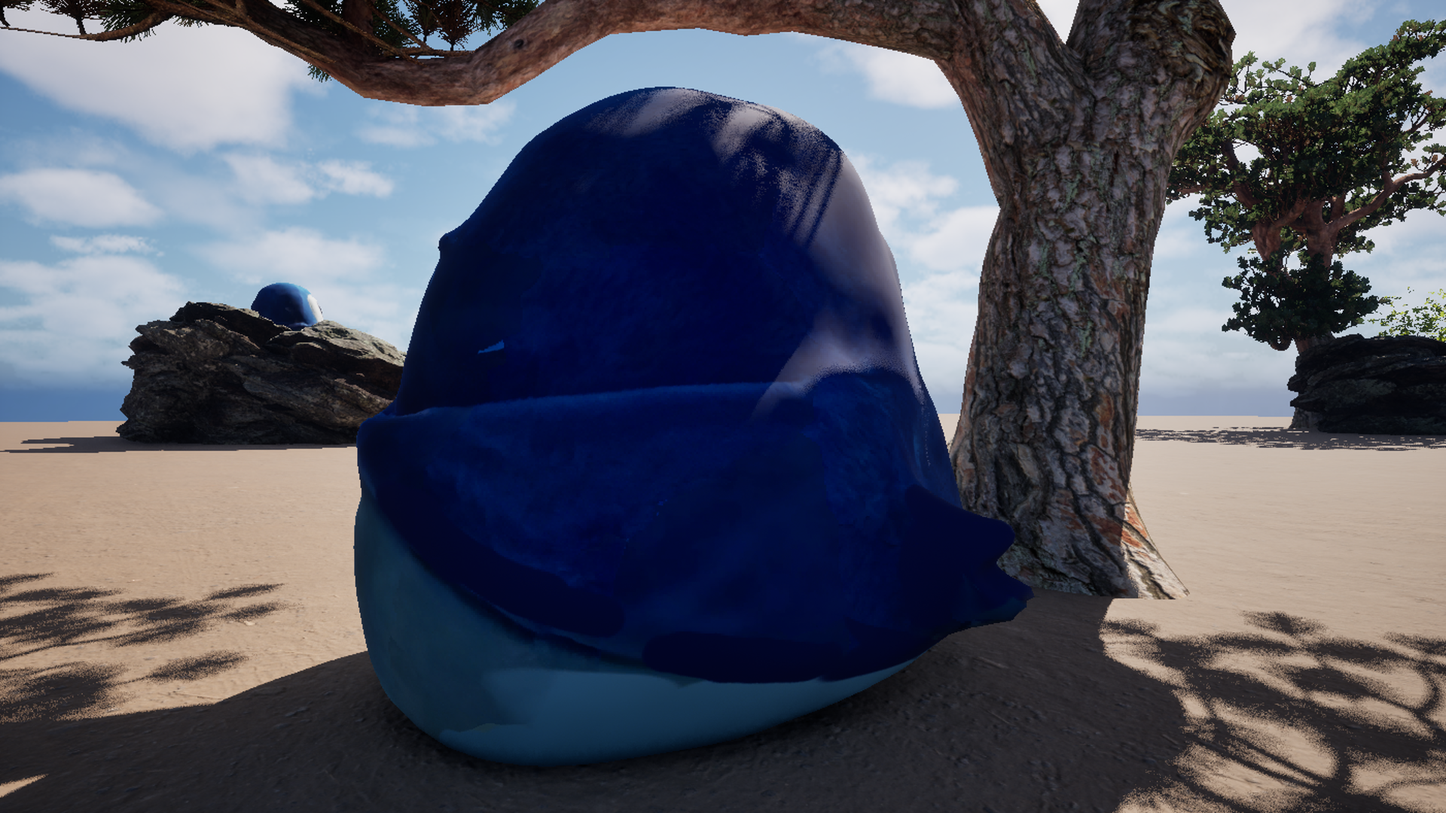Piplup: (279, 0, 1161, 813)
